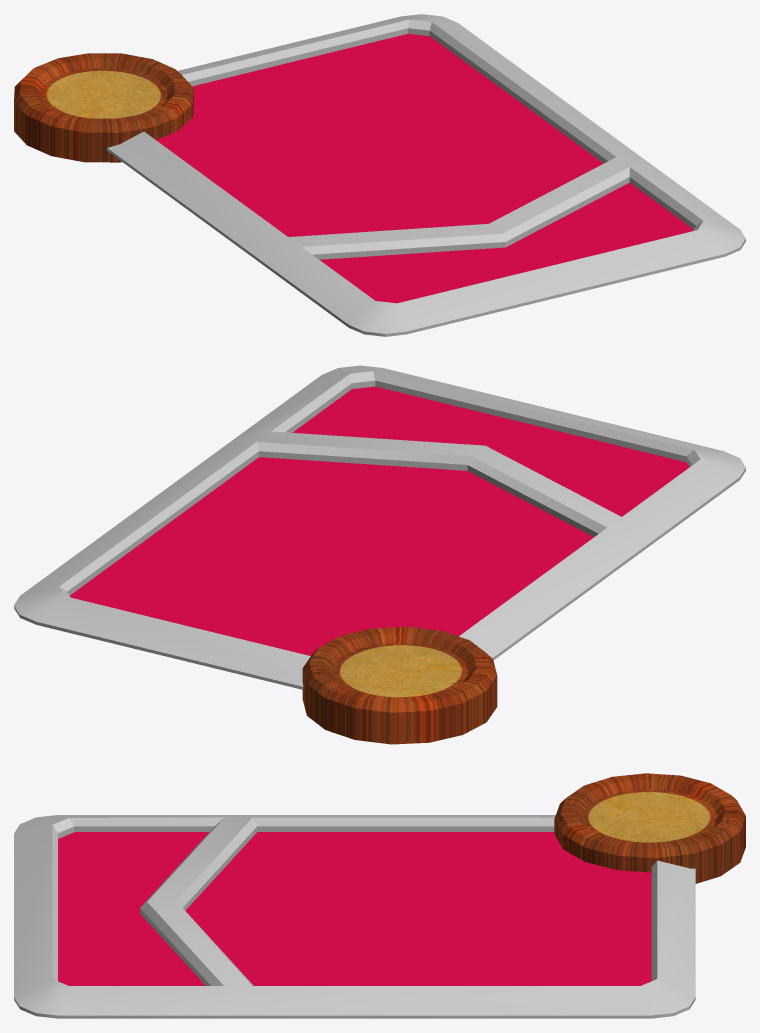
File: Card_005.fbx
The picture shows the model from 3 angles, top to bottom: view 1: azimuth 30°, elevation 25°; view 2: azimuth 150°, elevation 25°; view 3: azimuth 270°, elevation 25°; orthographic projection. The views are drawn at different scales.
Parts seen in each view (by area): view 1: Border, Cost; view 2: Border, Cost; view 3: Border, Cost.
Part boxes in pixels (x1=…): Border: x1=107, y1=14, x2=745, y2=336; Cost: x1=14, y1=53, x2=193, y2=162; Border: x1=14, y1=365, x2=745, y2=689; Cost: x1=302, y1=626, x2=497, y2=744; Border: x1=14, y1=815, x2=695, y2=1018; Cost: x1=554, y1=773, x2=745, y2=883.
Size of the model in its own units: 6.87 by 0.5433 by 9.56.
